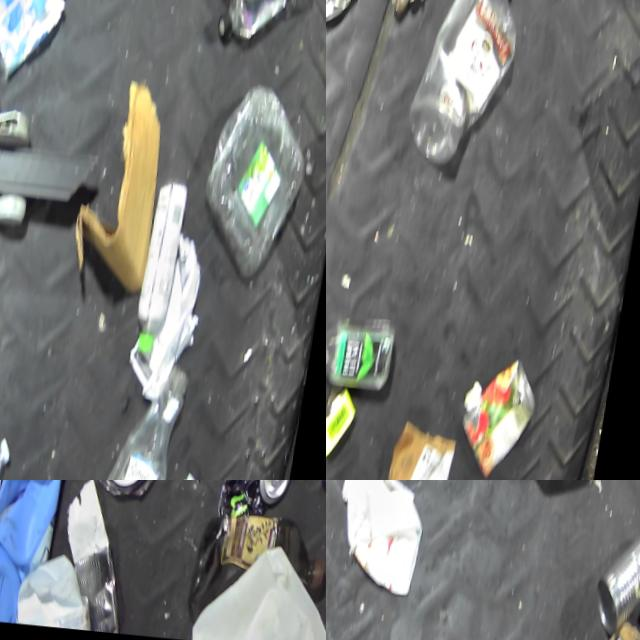can: (53, 480, 151, 633), (459, 351, 548, 480), (589, 516, 640, 639), (218, 480, 300, 524), (326, 385, 365, 461)
milk_jug: (195, 533, 326, 640), (19, 545, 99, 630)
non_white_jug: (190, 508, 326, 636), (0, 480, 81, 625)
plastic_bottle: (401, 0, 531, 169), (86, 358, 197, 480), (326, 307, 403, 391), (213, 0, 289, 47)
